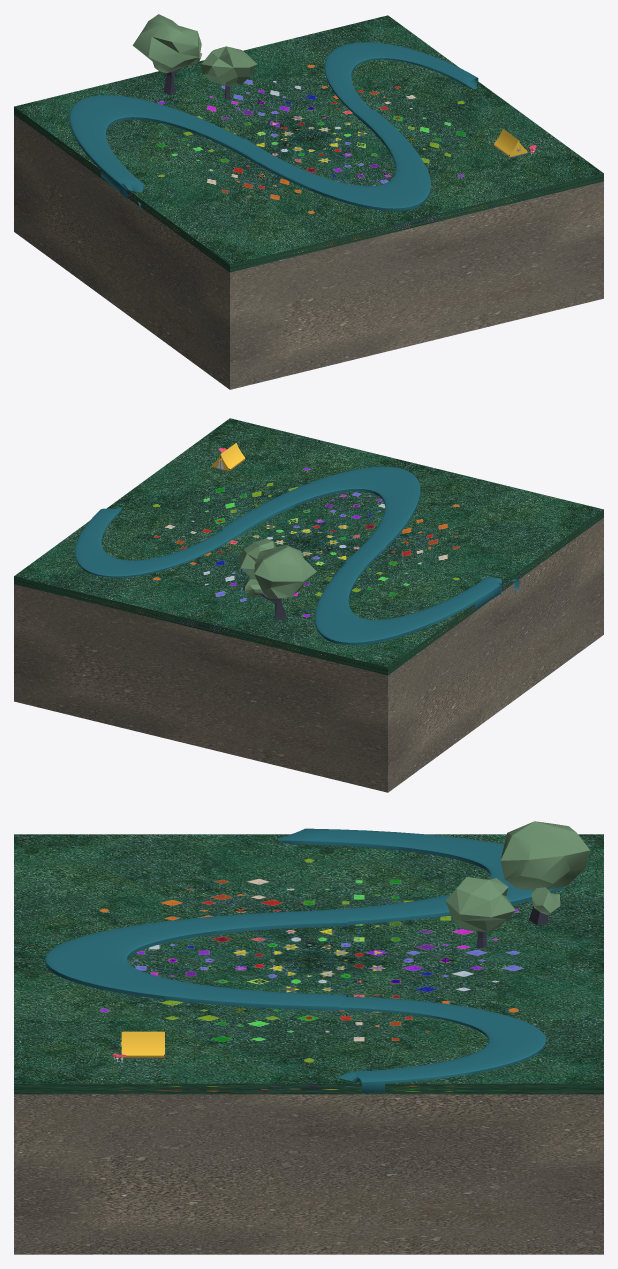
The model's file is greenhouse.obj.
3 renders of one model, top to bottom at view 1: azimuth 30°, elevation 25°; view 2: azimuth 150°, elevation 25°; view 3: azimuth 270°, elevation 25°, orthographic. The views are drawn at different scales.
Parts seen in each view (by area): view 1: 001_Box, 000_grass, 002_Tube_-_baked_1_1_&_Tube_-_baked_1_&_Tube_-_baked_2, 015_Crowns, 017_Crown, 004_Tent_01; view 2: 001_Box, 000_grass, 002_Tube_-_baked_1_1_&_Tube_-_baked_1_&_Tube_-_baked_2, 015_Crowns, 017_Crown; view 3: 000_grass, 001_Box, 002_Tube_-_baked_1_1_&_Tube_-_baked_1_&_Tube_-_baked_2, 015_Crowns, 017_Crown, 004_Tent_01.
Part boxes in pixels (x1=…): 001_Box: x1=14, y1=114, x2=603, y2=389; 000_grass: x1=14, y1=15, x2=603, y2=272; 002_Tube_-_baked_1_1_&_Tube_-_baked_1_&_Tube_-_baked_2: x1=69, y1=42, x2=478, y2=215; 015_Crowns: x1=132, y1=14, x2=201, y2=73; 017_Crown: x1=201, y1=46, x2=257, y2=85; 004_Tent_01: x1=494, y1=129, x2=527, y2=156; 001_Box: x1=14, y1=517, x2=603, y2=792; 000_grass: x1=14, y1=418, x2=603, y2=675; 002_Tube_-_baked_1_1_&_Tube_-_baked_1_&_Tube_-_baked_2: x1=75, y1=466, x2=519, y2=645; 015_Crowns: x1=242, y1=545, x2=316, y2=598; 017_Crown: x1=238, y1=538, x2=275, y2=578; 000_grass: x1=14, y1=834, x2=603, y2=1094; 001_Box: x1=14, y1=1094, x2=603, y2=1254; 002_Tube_-_baked_1_1_&_Tube_-_baked_1_&_Tube_-_baked_2: x1=45, y1=828, x2=565, y2=1093; 015_Crowns: x1=500, y1=821, x2=590, y2=915; 017_Crown: x1=445, y1=877, x2=515, y2=931; 004_Tent_01: x1=120, y1=1031, x2=164, y2=1057.
Bounding box in the file's own units: 101 × 50.12 × 100.
18 materials, 2 textured.
